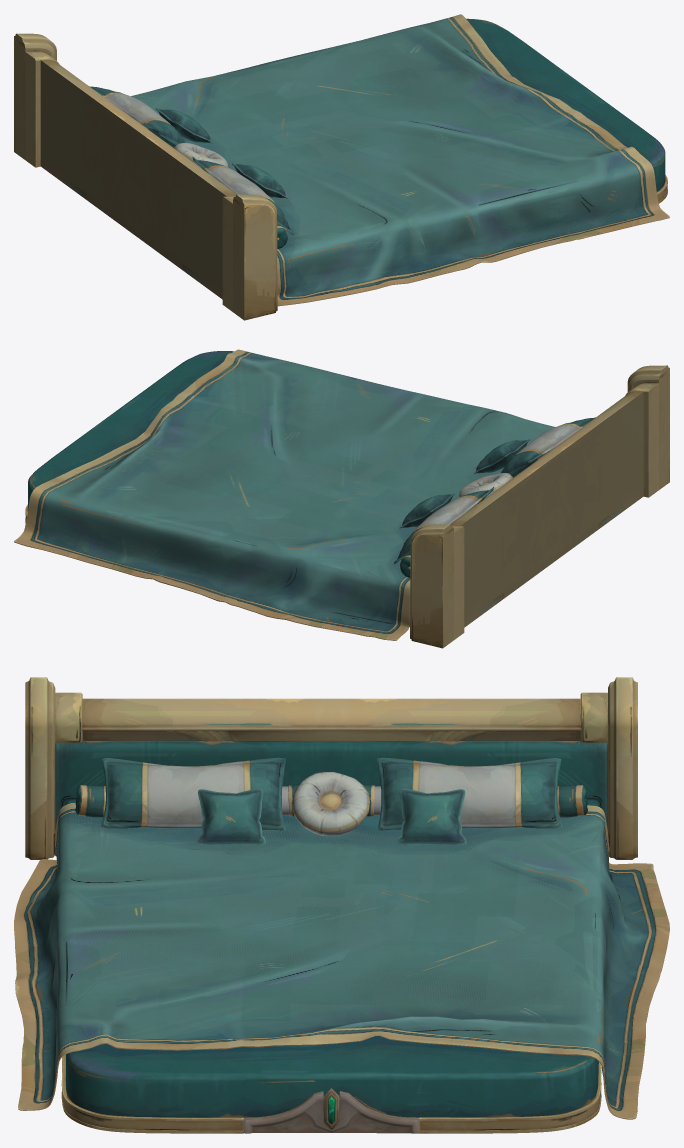
The model's file is Asgard_Bed.obj.
The picture shows the model from 3 angles, top to bottom: view 1: azimuth 30°, elevation 25°; view 2: azimuth 150°, elevation 25°; view 3: azimuth 270°, elevation 25°; orthographic projection. The views are drawn at different scales.
Visible parts, largest first — view 1: SM_AsgardC02BuildingIND001Aa_C_2.001; view 2: SM_AsgardC02BuildingIND001Aa_C_2.001; view 3: SM_AsgardC02BuildingIND001Aa_C_2.001.
Part boxes in pixels (<box>): SM_AsgardC02BuildingIND001Aa_C_2.001: <box>14,14,669,320</box>; SM_AsgardC02BuildingIND001Aa_C_2.001: <box>14,349,669,648</box>; SM_AsgardC02BuildingIND001Aa_C_2.001: <box>14,677,669,1133</box>.
Bounding box in the file's own units: 6.27 × 1.58 × 5.82.
